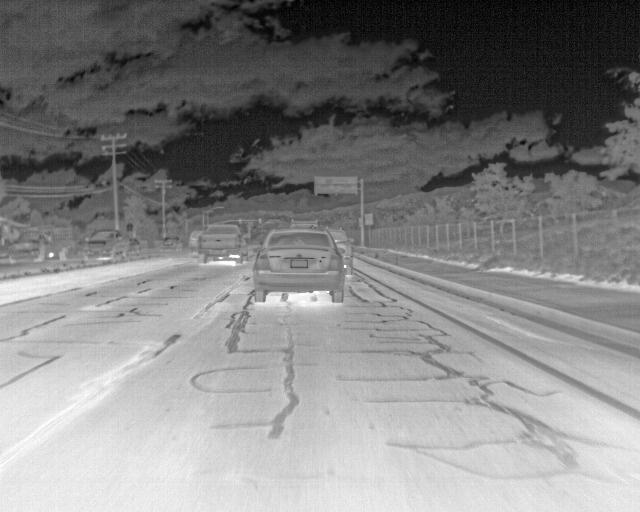car: (253, 229, 345, 302), (197, 222, 247, 260), (320, 226, 352, 275), (81, 227, 129, 256), (11, 229, 57, 258), (289, 217, 316, 232), (186, 227, 203, 247)
